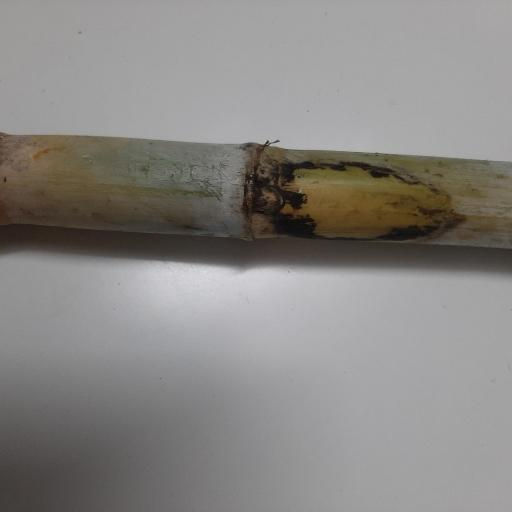Bud: (253, 182, 283, 215)
